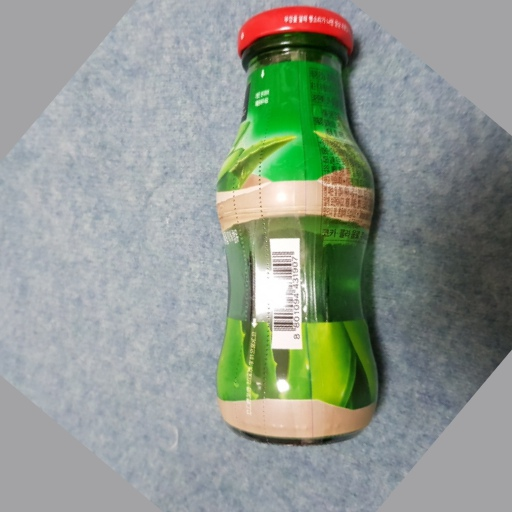Glass_4: (210, 6, 391, 450)
